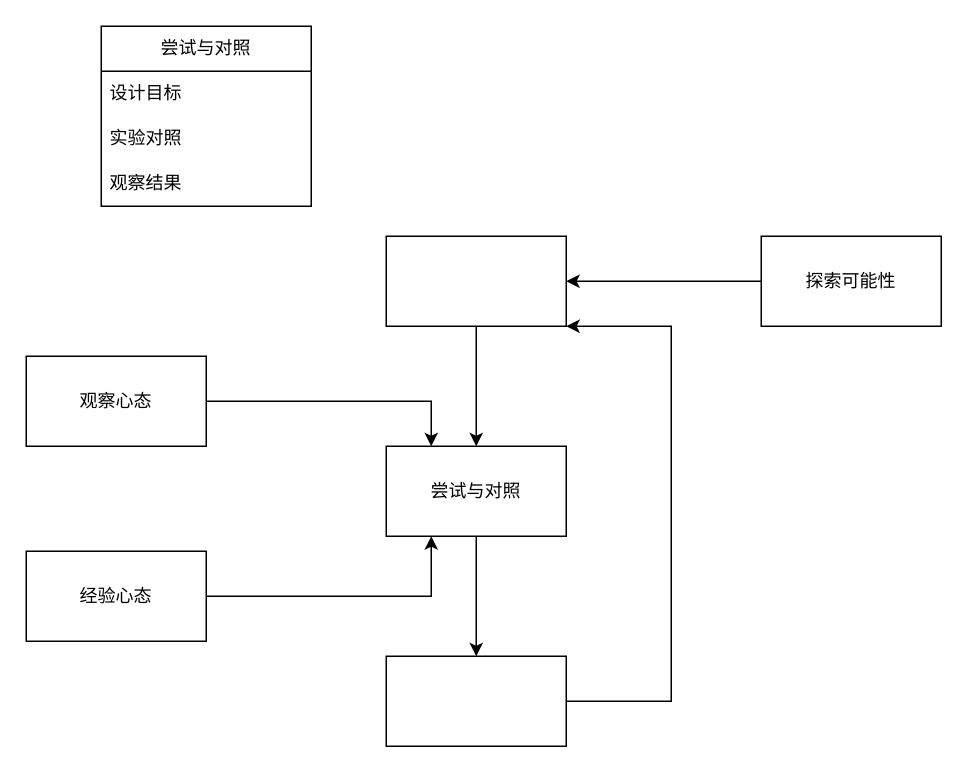
Image size: 968x773. Some labels were removed from this diagram. Here are the shapes that lost their labels. From the top down, the centre of each, then its label:
pixel 475 280: 问题与假设
pixel 475 700: 复盘和提炼
